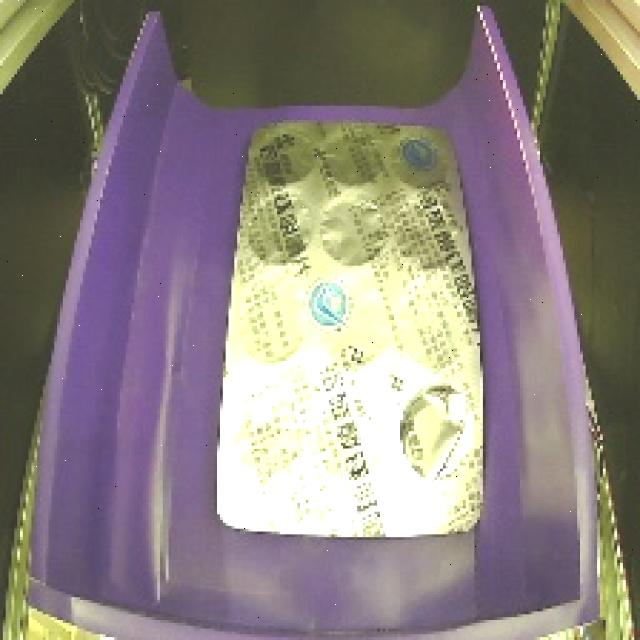med_plate: (196, 105, 499, 552)
